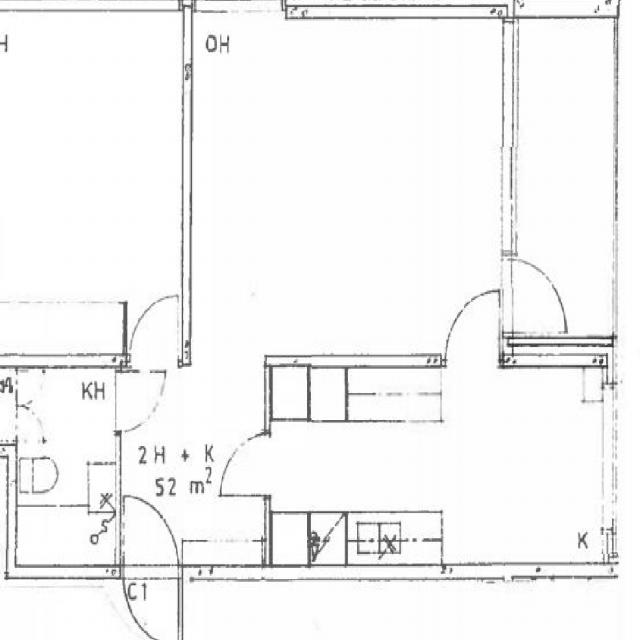door: (502, 260, 567, 332), (125, 493, 179, 577), (445, 286, 500, 365), (125, 565, 179, 640), (130, 291, 178, 366), (220, 434, 271, 495), (116, 372, 166, 431), (16, 405, 44, 441), (16, 370, 44, 406)
